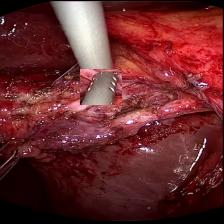Grasper: (0, 135, 35, 184)
Irrigator: (80, 68, 122, 104)
